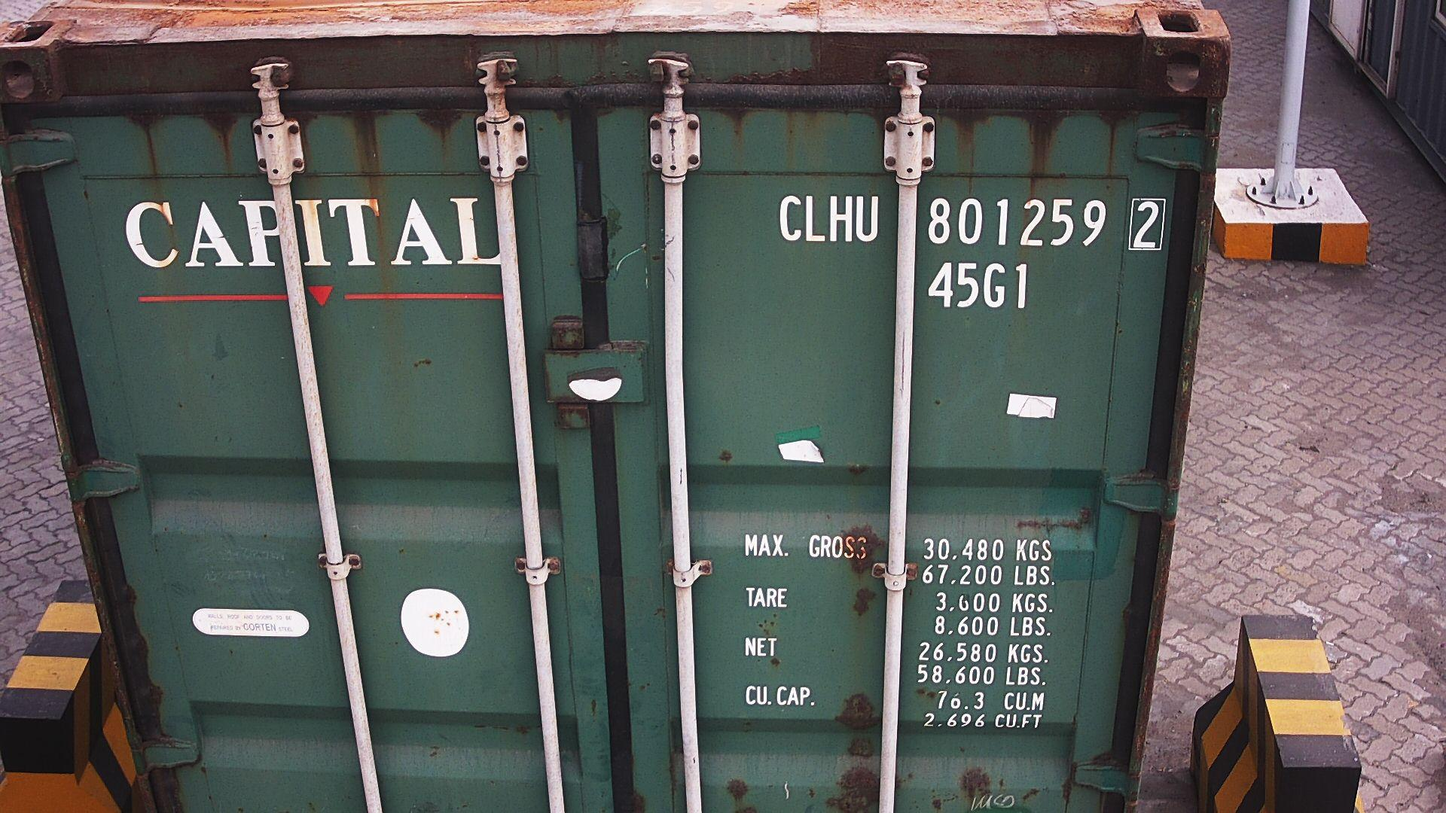container-numbers: (770, 190, 1170, 254), (923, 258, 1035, 313)
